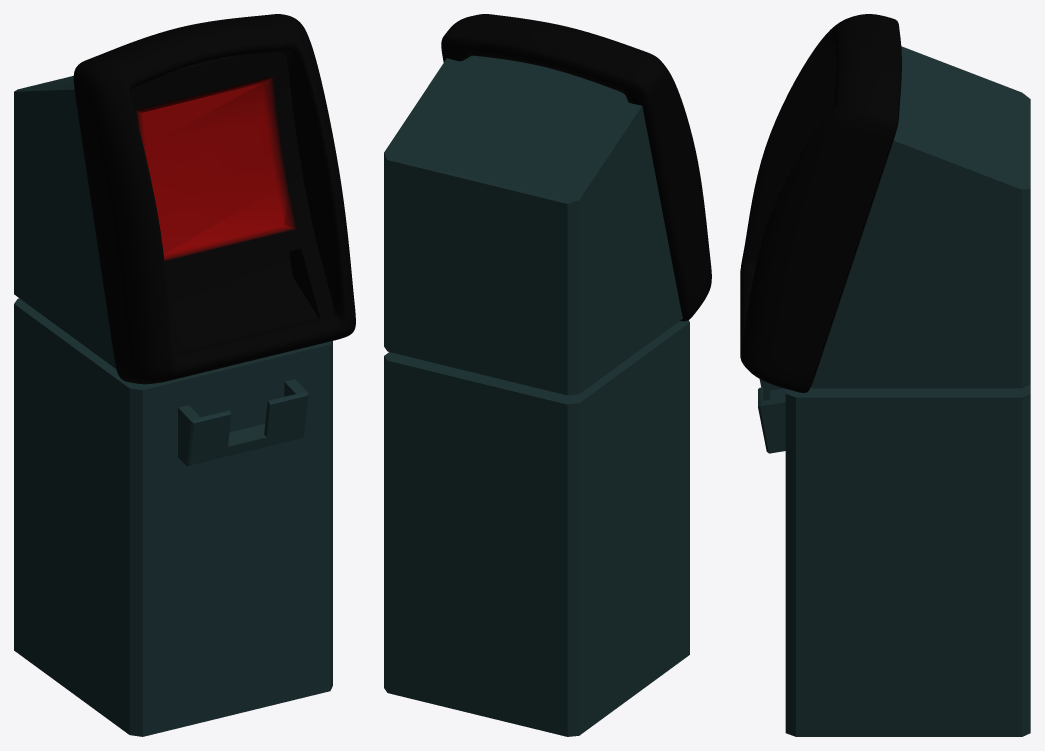
The model's file is atm.fbx.
3 views of the same model, side by side, from view 1: azimuth 30°, elevation 25°; view 2: azimuth 150°, elevation 25°; view 3: azimuth 270°, elevation 25° (orthographic). The views are drawn at different scales.
Parts seen in each view (by area): view 1: Lower, trim, Upper; view 2: Lower, Upper, trim; view 3: Lower, Upper, trim.
Boxes of the visible parts, x1=… form: Lower: x1=14, y1=298, x2=332, y2=736; trim: x1=73, y1=14, x2=355, y2=384; Upper: x1=14, y1=56, x2=234, y2=368; Lower: x1=384, y1=320, x2=689, y2=736; Upper: x1=384, y1=55, x2=682, y2=395; trim: x1=441, y1=14, x2=711, y2=321; Lower: x1=758, y1=379, x2=1030, y2=736; Upper: x1=810, y1=46, x2=1030, y2=388; trim: x1=740, y1=14, x2=901, y2=392.
Size of the model in its own units: 119 by 338 by 140.
